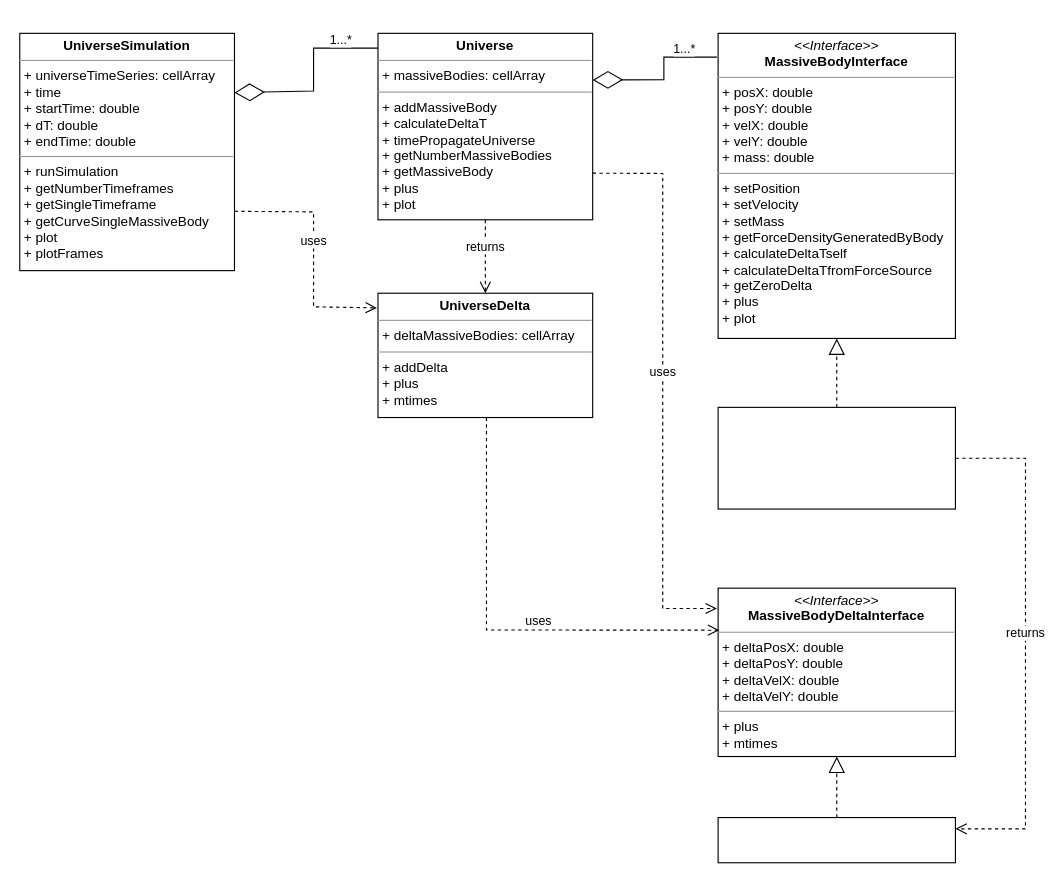
The diagram is 1064 pixels wide and 883 high, and some of its shapes have lost their labels. The shapes that lost their labels are listed below. From the top down, each one's centre as x and y in pixels, then its label:
At (836,457): "SphericalMass + density: double + radius: double + setDensity".
At (836,839): "SphericalMassDelta".
